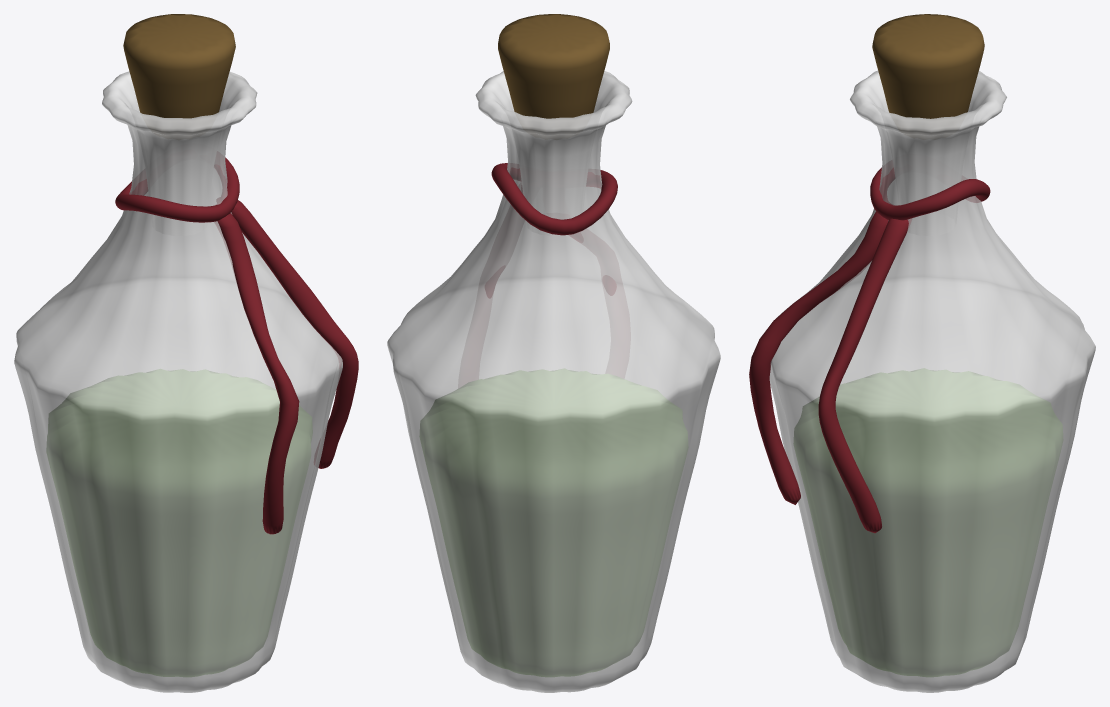
The model's file is sise2-yesil.fbx.
The picture shows the model from 3 angles, left to right: view 1: azimuth 30°, elevation 25°; view 2: azimuth 150°, elevation 25°; view 3: azimuth 270°, elevation 25°; orthographic projection.
Parts seen in each view (by area): view 1: Sphere.009; view 2: Sphere.009; view 3: Sphere.009.
Part boxes in pixels (x1,y1,x2,y2): Sphere.009: [14, 14, 358, 692]; Sphere.009: [387, 14, 720, 692]; Sphere.009: [749, 14, 1095, 692].
Bounding box in the file's own units: 14.22 × 29.76 × 14.73.
